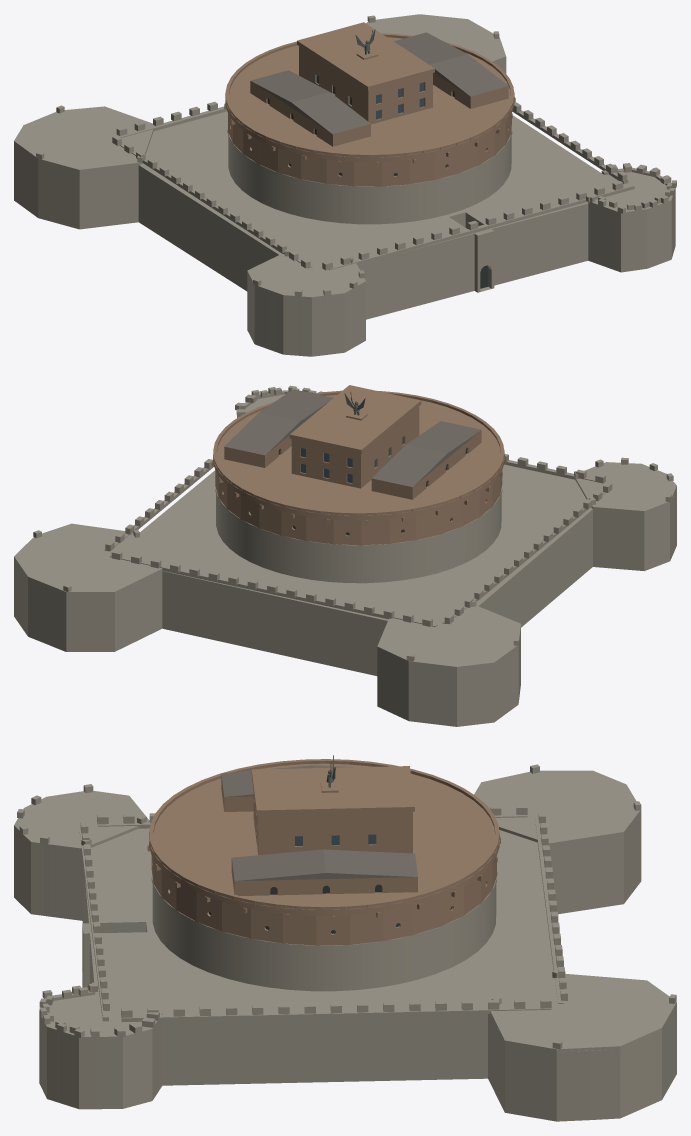
The model's file is castel-sant-angelo-far.glb.
3 renders of one model, top to bottom at view 1: azimuth 30°, elevation 25°; view 2: azimuth 150°, elevation 25°; view 3: azimuth 270°, elevation 25°, orthographic. The views are drawn at different scales.
Visible parts, largest first — view 1: castel-sant-angelo-0-stone, castel-sant-angelo-0-brick, castel-sant-angelo-0-roof; view 2: castel-sant-angelo-0-stone, castel-sant-angelo-0-brick, castel-sant-angelo-0-roof; view 3: castel-sant-angelo-0-stone, castel-sant-angelo-0-brick, castel-sant-angelo-0-roof.
Boxes of the visible parts, left/top/right/bottom form: castel-sant-angelo-0-stone: left=14, top=14, right=676, bottom=356; castel-sant-angelo-0-brick: left=224, top=22, right=515, bottom=186; castel-sant-angelo-0-roof: left=250, top=32, right=508, bottom=134; castel-sant-angelo-0-stone: left=14, top=385, right=676, bottom=726; castel-sant-angelo-0-brick: left=212, top=385, right=505, bottom=545; castel-sant-angelo-0-roof: left=224, top=389, right=481, bottom=487; castel-sant-angelo-0-stone: left=14, top=764, right=676, bottom=1121; castel-sant-angelo-0-brick: left=147, top=759, right=500, bottom=945; castel-sant-angelo-0-roof: left=221, top=765, right=417, bottom=880.
Size of the model in its own units: 126 by 48 by 126.
